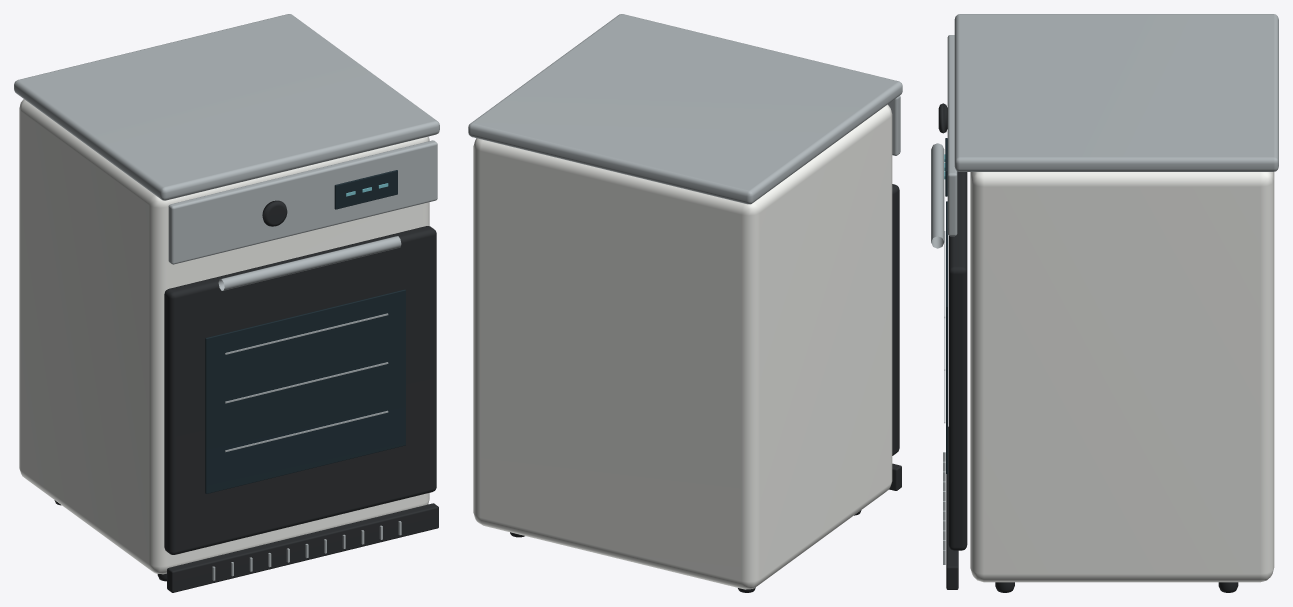
File: oven.glb
3 renders of one model, left to right at view 1: azimuth 30°, elevation 25°; view 2: azimuth 150°, elevation 25°; view 3: azimuth 270°, elevation 25°, orthographic. The views are drawn at different scales.
Visible parts, largest first — view 1: 家具_oven; view 2: 家具_oven; view 3: 家具_oven.
Part boxes in pixels (left/top/right/bottom): 家具_oven: left=14, top=14, right=439, bottom=592; 家具_oven: left=468, top=14, right=902, bottom=592; 家具_oven: left=931, top=14, right=1278, bottom=592.
Bounding box in the file's own units: 0.6 × 0.85 × 0.6.
